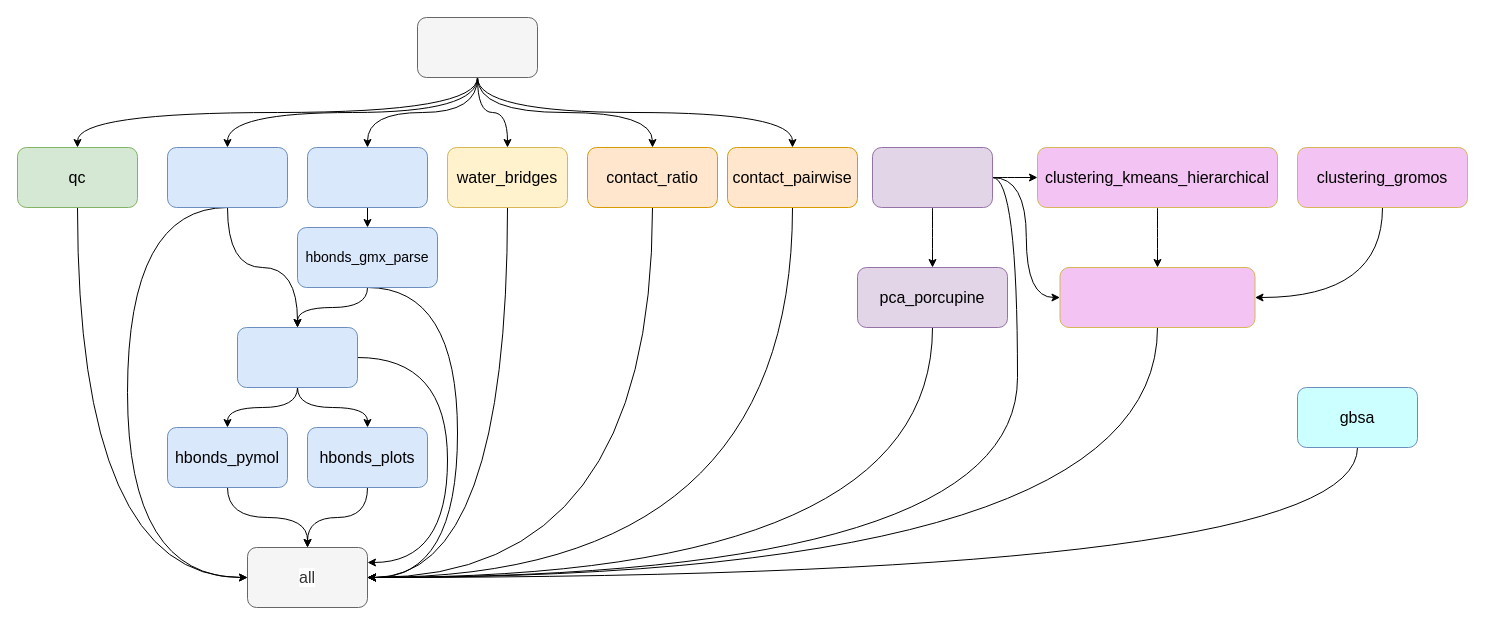
Image size: 1485x625. Some labels were removed from this diagram. The centre of each missing label's shape, as x and y in pixels:
"clustering_gromos_plots" belongs at [1157,297].
"hbonds_extend" belongs at [297,357].
"hbonds_gmx" belongs at [367,177].
"hbonds_mda" belongs at [227,177].
"pca" belongs at [932,177].
"universe" belongs at [477,47].
